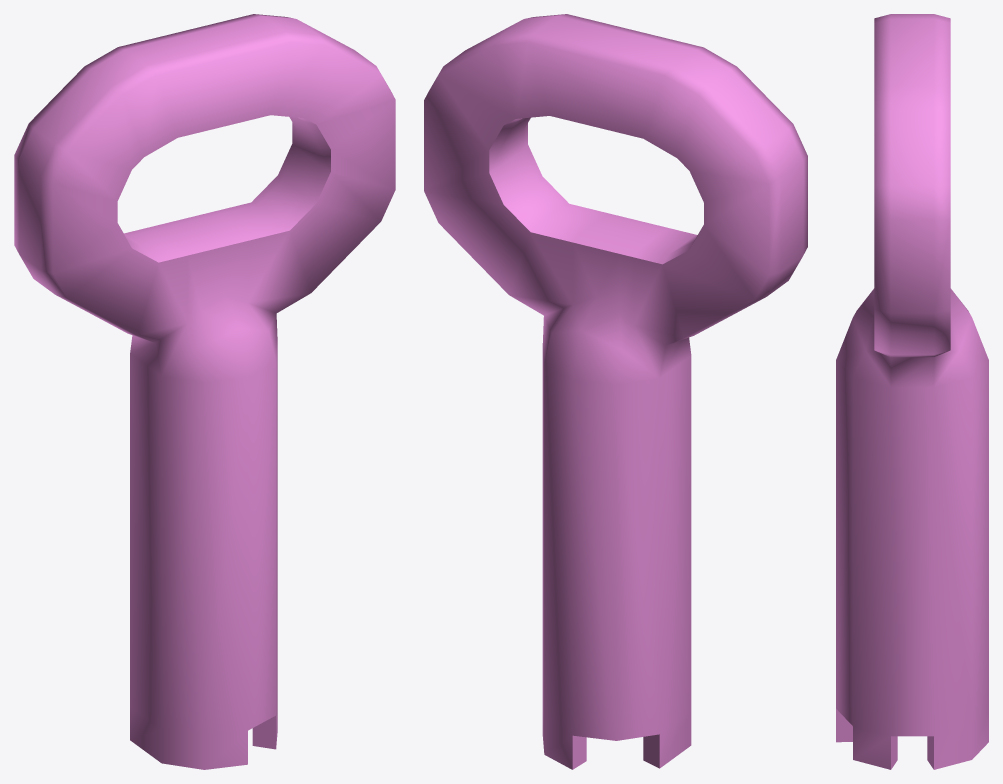
Rendered from Keys_27.FBX.
The picture shows the model from 3 angles, left to right: view 1: azimuth 30°, elevation 25°; view 2: azimuth 150°, elevation 25°; view 3: azimuth 270°, elevation 25°; orthographic projection.
Parts seen in each view (by area): view 1: Keys_27; view 2: Keys_27; view 3: Keys_27.
Boxes of the visible parts, <box> form: Keys_27: <box>14,14,395,769</box>; Keys_27: <box>424,14,807,769</box>; Keys_27: <box>836,14,988,769</box>.
Bounding box in the file's own units: 1.22 × 2.31 × 0.4661.
